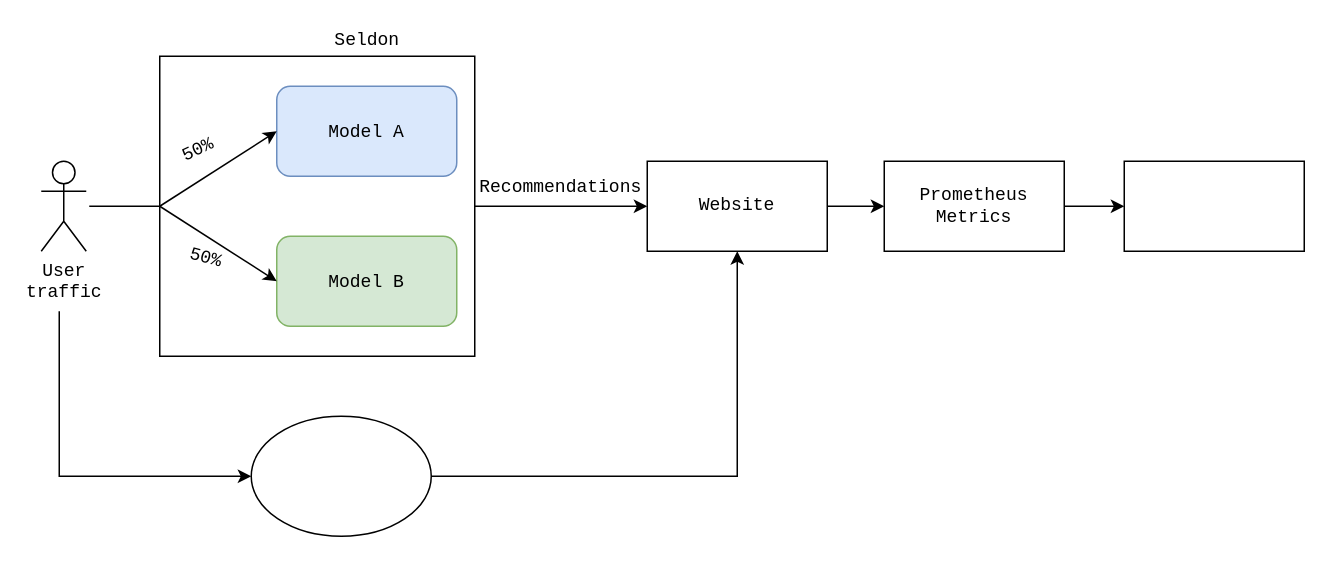
Image size: 1331x563. Some labels were removed from this diagram. Here are the shapes that lost their labels. From the top down, the centre of each, then its label:
point 1213,205: Grafana Dashboard
point 340,475: Click-through
